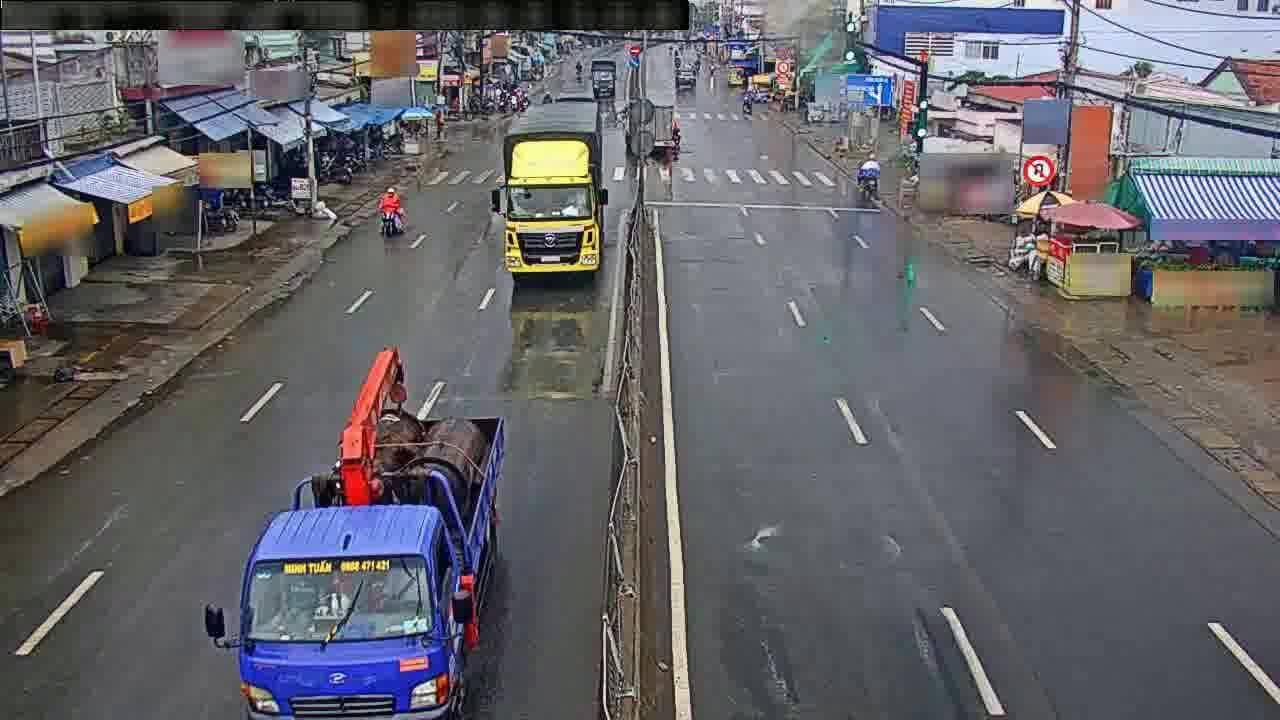car: (672, 64, 698, 89)
container: (239, 405, 513, 710), (501, 99, 608, 272), (621, 104, 667, 149)
motorbike: (373, 187, 401, 239), (852, 150, 883, 195)
